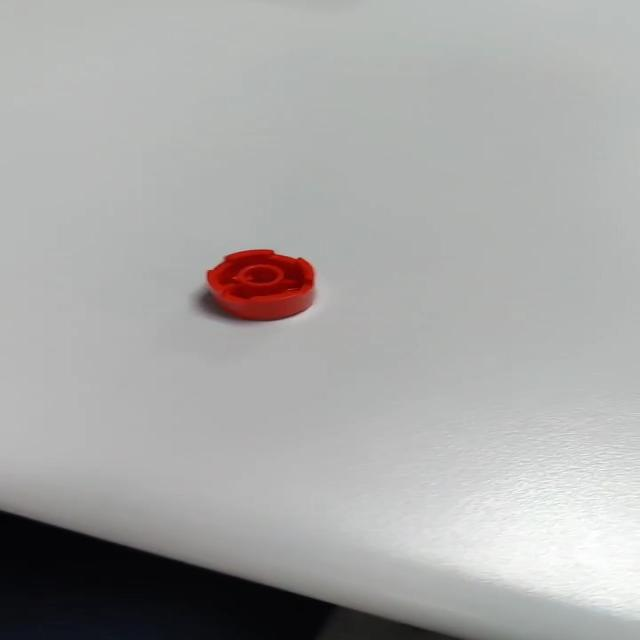S2x2x1: (200, 249, 316, 322)
